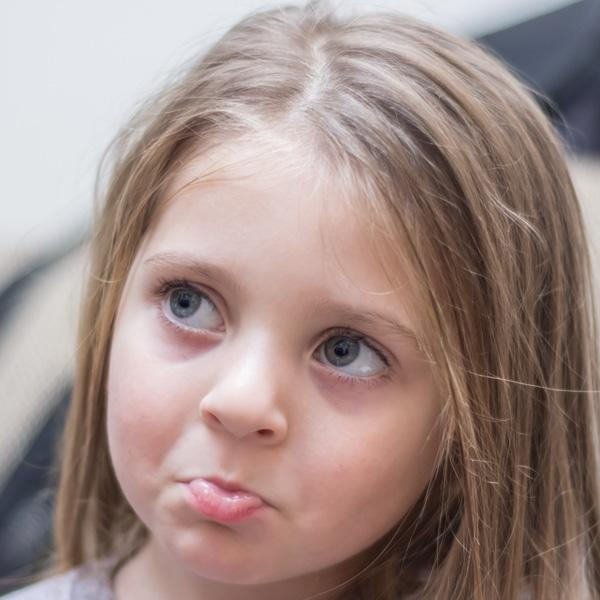Eyes: (296, 315, 397, 395), (146, 267, 236, 345)
